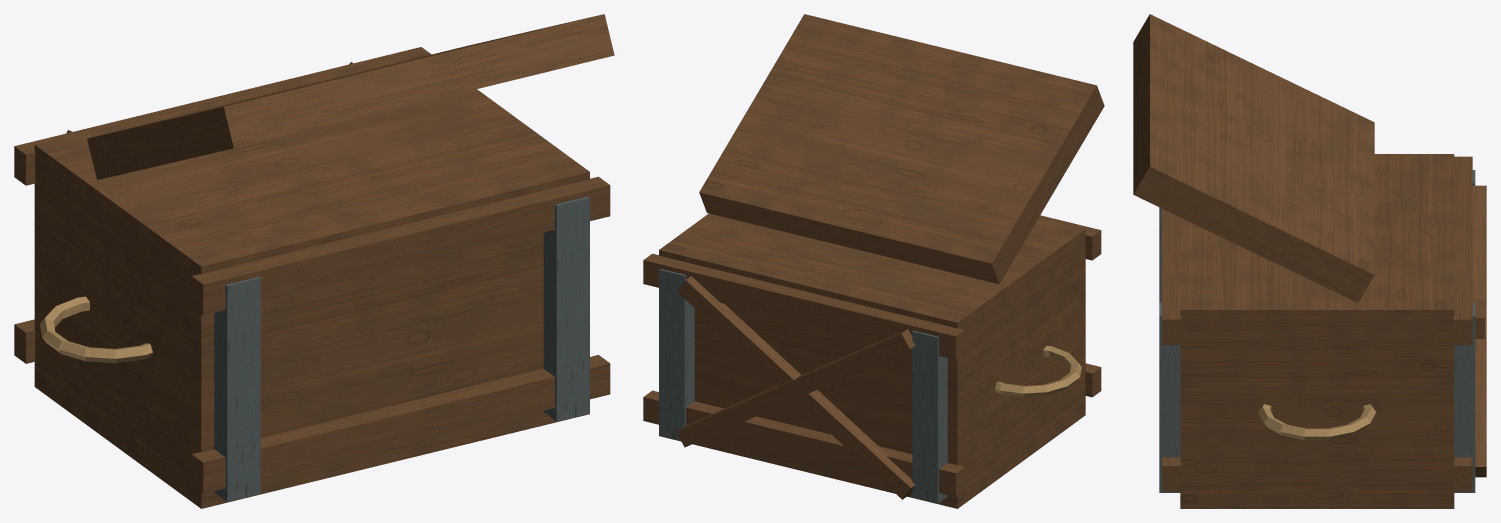
File: pr-004_supply_crate__open.obj
The picture shows the model from 3 angles, left to right: view 1: azimuth 30°, elevation 25°; view 2: azimuth 150°, elevation 25°; view 3: azimuth 270°, elevation 25°; orthographic projection. The views are drawn at different scales.
Parts seen in each view (by area): view 1: pr-004_supply_crate__open; view 2: pr-004_supply_crate__open; view 3: pr-004_supply_crate__open.
Boxes of the visible parts, <box> form: pr-004_supply_crate__open: <box>14,14,614,508</box>; pr-004_supply_crate__open: <box>643,14,1104,508</box>; pr-004_supply_crate__open: <box>1133,14,1486,508</box>.
Size of the model in its own units: 1.42 by 1.07 by 1.01.
4 materials, 4 textured.
